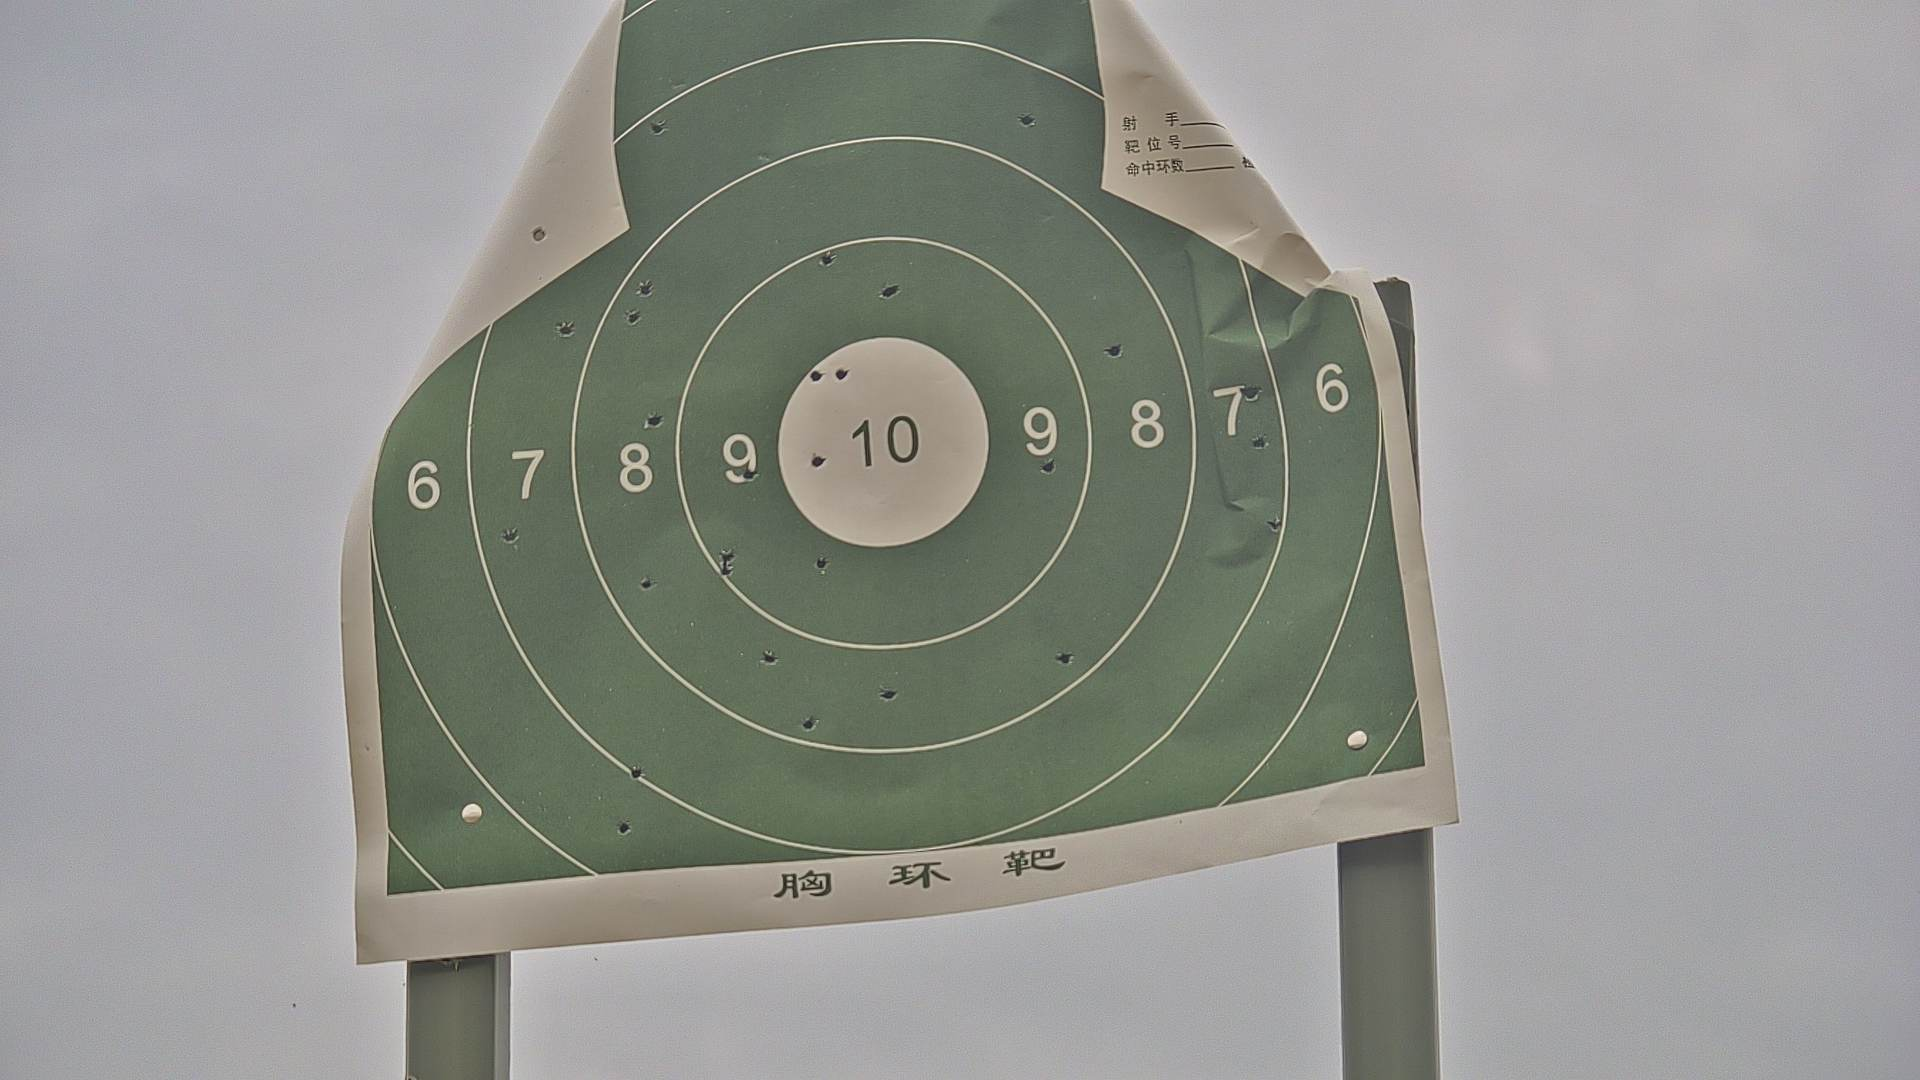hole: (1242, 382, 1261, 401), (531, 225, 547, 245), (650, 119, 666, 136), (1058, 650, 1073, 667), (1269, 514, 1284, 531), (625, 307, 640, 326), (1108, 342, 1124, 357), (835, 365, 849, 382), (502, 527, 517, 545), (880, 688, 897, 703), (647, 411, 662, 427), (640, 578, 654, 593), (1040, 458, 1055, 473), (556, 322, 574, 335), (742, 467, 760, 480), (880, 285, 898, 297), (811, 452, 827, 465), (720, 550, 736, 563), (822, 253, 835, 268), (720, 562, 733, 576), (762, 651, 777, 665), (640, 282, 655, 294), (632, 764, 644, 779), (810, 369, 823, 382), (617, 822, 632, 833), (802, 716, 814, 731), (1254, 433, 1266, 447), (816, 555, 827, 568), (1021, 113, 1033, 124)
kernel: (876, 443, 882, 446)
target: (367, 1, 1425, 899)
ten: (773, 335, 990, 547)
